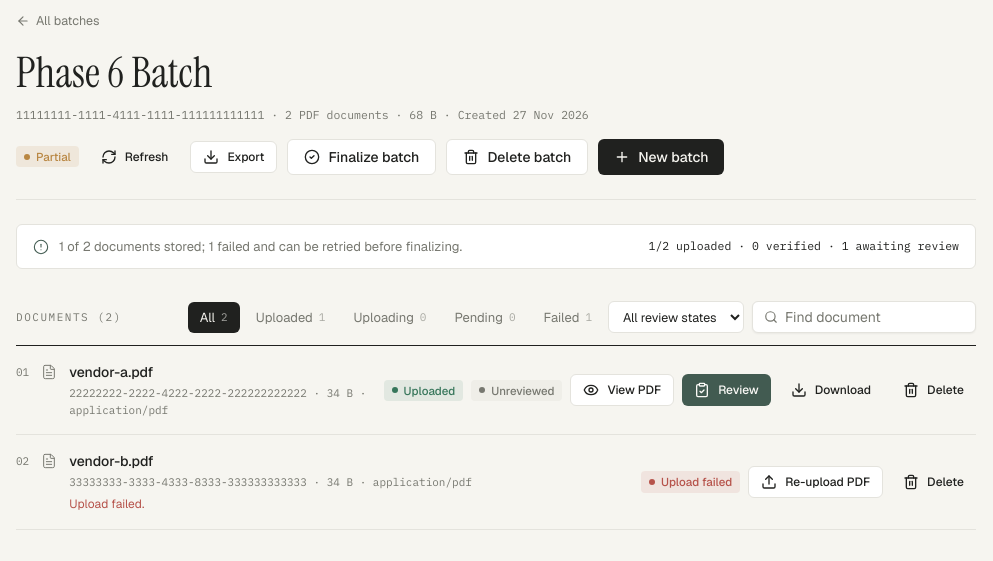
Test case: Phase 6 — Document access UI (preview, unavailable recovery, search, single delete, focus) › reconstructs persisted state on reload, filters documents, and refreshes from server
The width and height of the screenshot is (993, 561).
Expected: the text "vendor-a.pdf" is shown, [69, 363, 153, 381]
Expected: the text "vendor-b.pdf" is shown, [69, 452, 154, 470]
Note: Filter by search input
Type "vendor-a" into the field named "Filter documents in batch".
click(864, 317); type("vendor-a")  # box [752, 301, 976, 333]
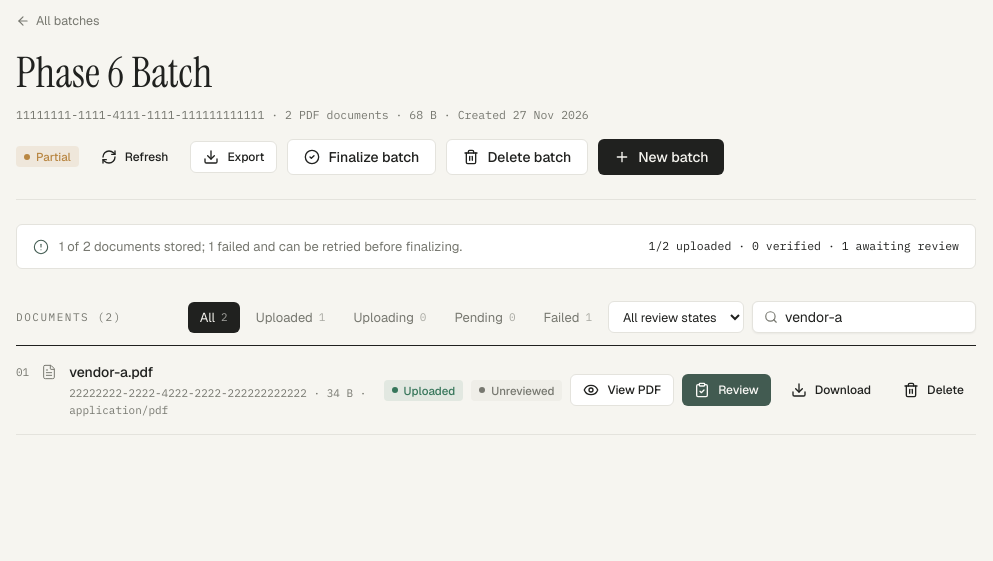
Expected: the text "vendor-a.pdf" is shown, [69, 363, 153, 381]
Expected: the text "vendor-b.pdf" is gone
Note: Clear filter and refresh from server
Clear the field named "Filter documents in batch" at (864, 317), box [752, 301, 976, 333]
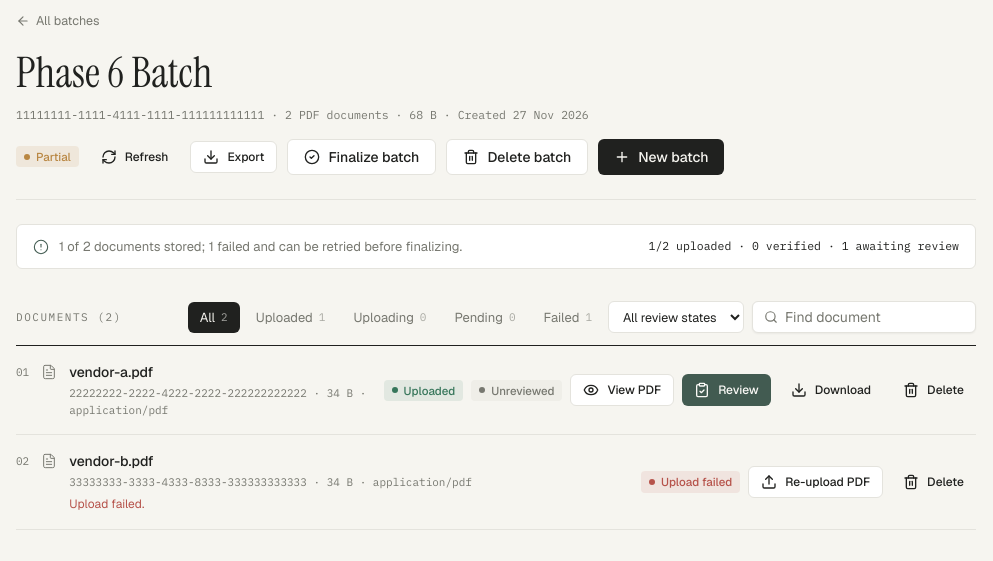
Click the button with aria-label "Reload batch from server".
click(135, 157)  # box [89, 141, 180, 173]
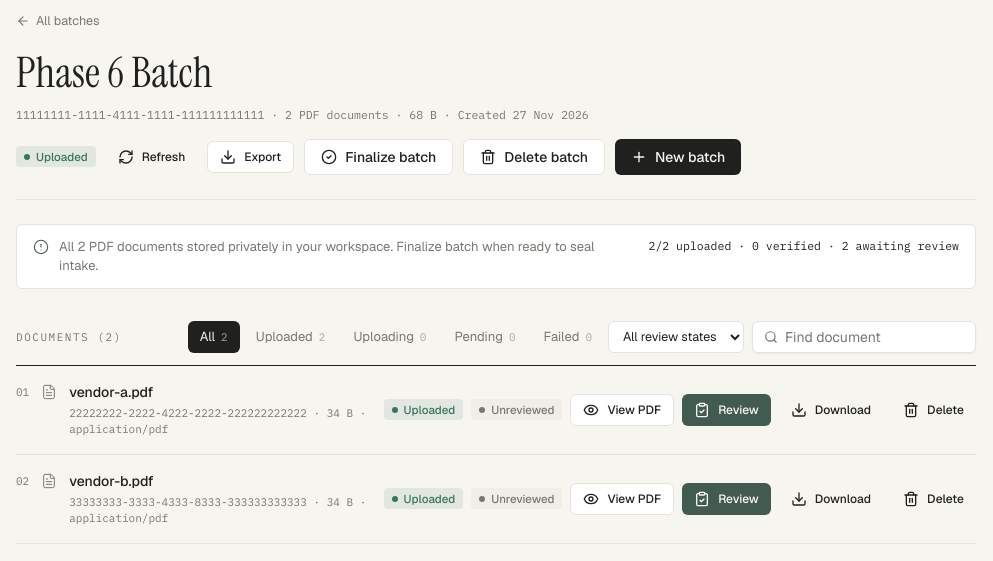
Expected: the button with aria-label "View vendor-b.pdf" is shown, [570, 483, 674, 515]
